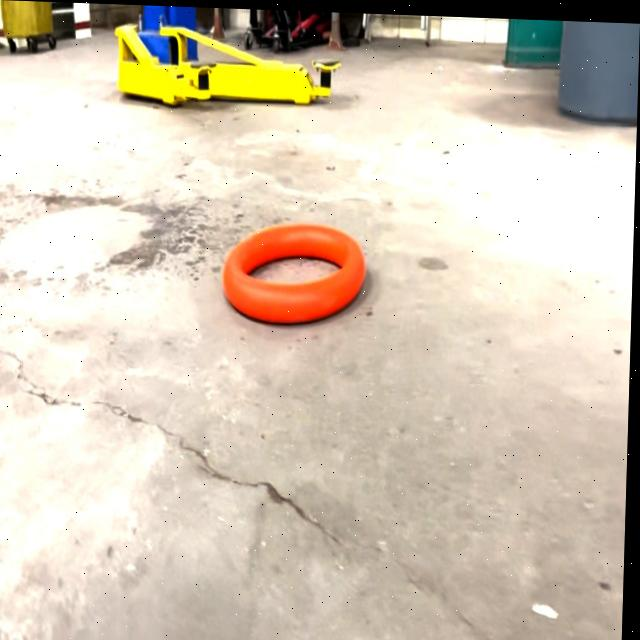note: (223, 219, 369, 331)
